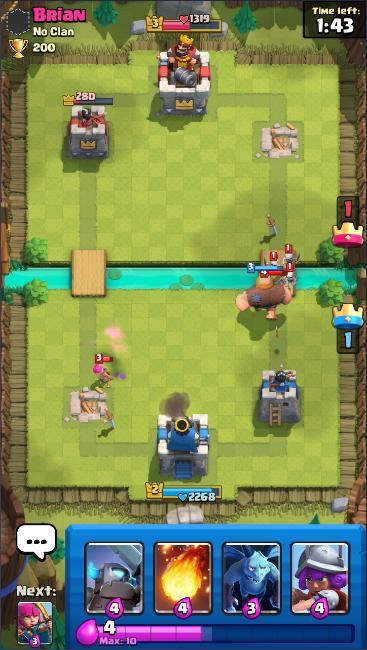ally_giant: (234, 260, 294, 321)
enemy_archer: (92, 352, 117, 389)
enemy_mini_pekka: (259, 266, 290, 295)
enemy_skeleton: (282, 243, 302, 271), (262, 250, 283, 275), (281, 262, 300, 288)
